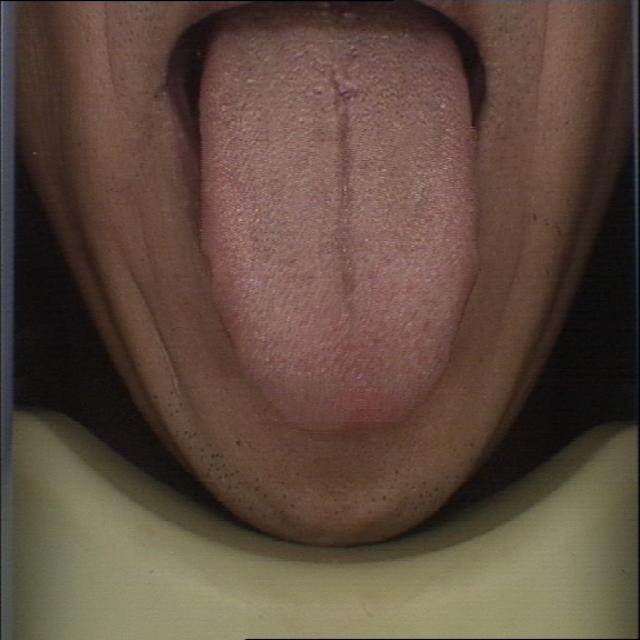tongue: (196, 10, 487, 442)
